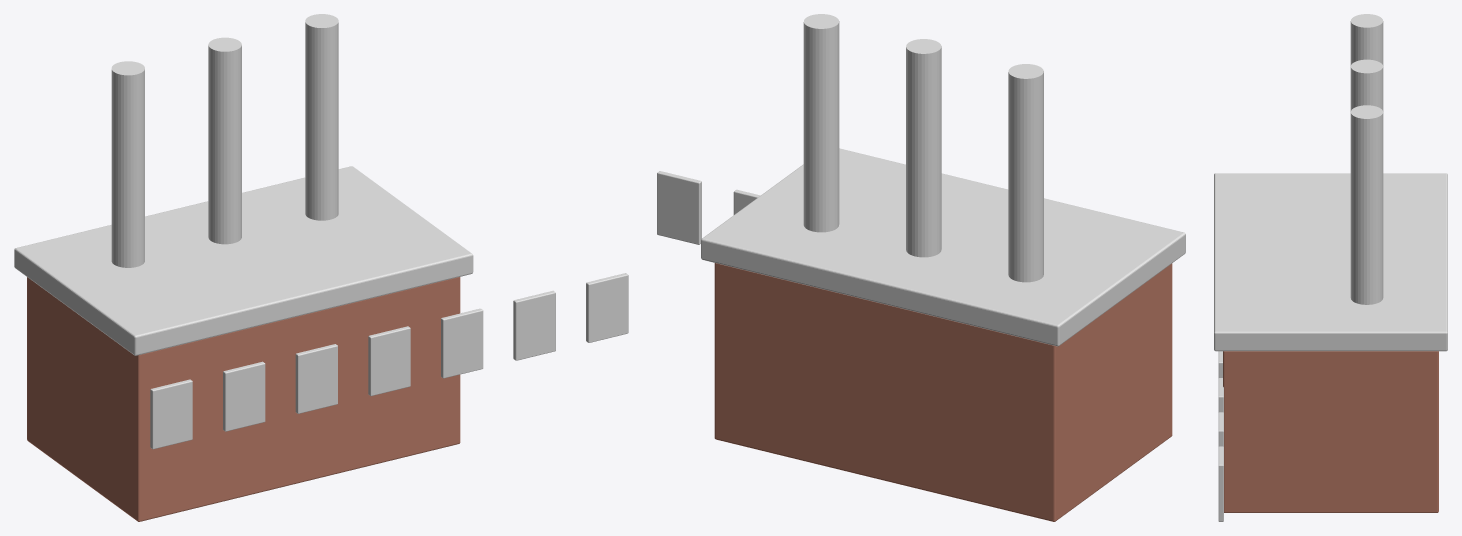
3 renders of one model, left to right at view 1: azimuth 30°, elevation 25°; view 2: azimuth 150°, elevation 25°; view 3: azimuth 270°, elevation 25°, orthographic. The views are drawn at different scales.
Parts seen in each view (by area): view 1: body, roof, win, Cylinder.001, Cylinder, Cylinder.002; view 2: body, roof, Cylinder.002, Cylinder.001, Cylinder, win; view 3: roof, body, Cylinder.002, Cylinder.001, Cylinder, win.
Part boxes in pixels (<box>): body: <box>27,277,460,521</box>; roof: <box>14,166,473,355</box>; win: <box>150,273,628,449</box>; Cylinder.001: <box>208,37,241,244</box>; Cylinder: <box>111,61,144,267</box>; Cylinder.002: <box>305,14,338,220</box>; body: <box>714,263,1172,521</box>; roof: <box>701,148,1185,346</box>; Cylinder.002: <box>803,14,839,232</box>; Cylinder.001: <box>906,39,941,257</box>; Cylinder: <box>1008,64,1043,282</box>; win: <box>657,171,760,244</box>; roof: <box>1214,173,1447,351</box>; body: <box>1223,351,1438,512</box>; Cylinder.002: <box>1350,105,1383,304</box>; Cylinder.001: <box>1350,59,1383,111</box>; Cylinder: <box>1350,14,1383,65</box>; win: <box>1218,351,1223,521</box>.
Size of what is drawn, in the model's own units: 6.15 by 4.55 by 2.6.
